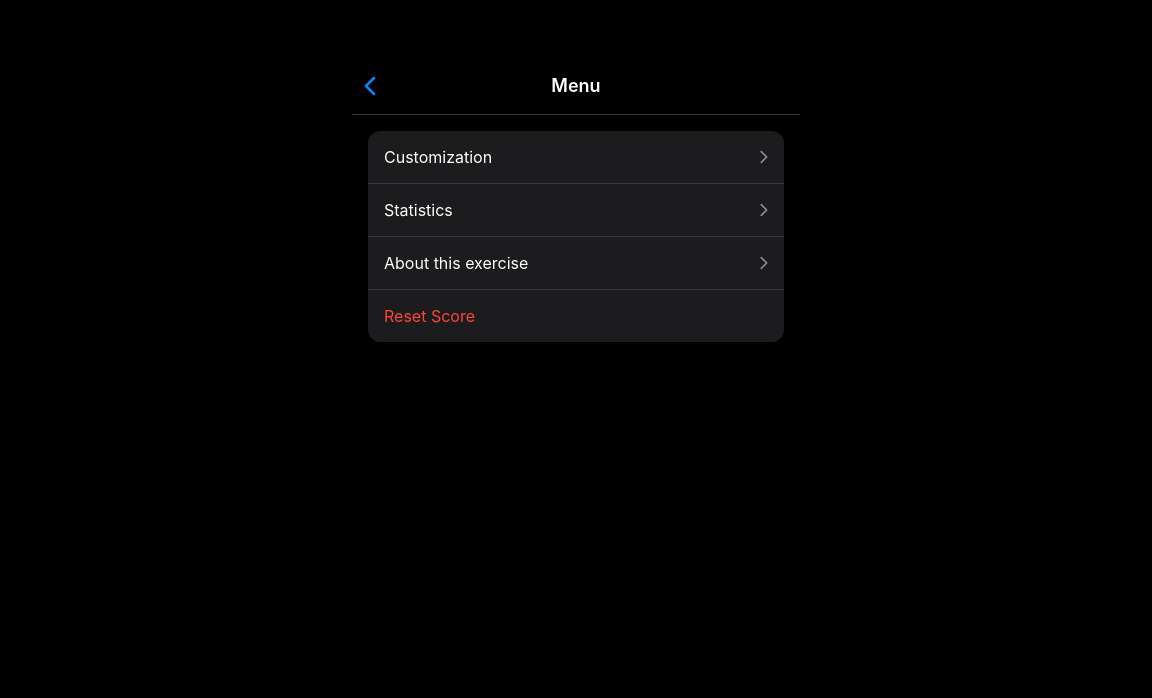
Test: what am I bad at › puts what is going worst in its own section, first
Click the button "Statistics" at x=418, y=210, box [368,183,784,236]
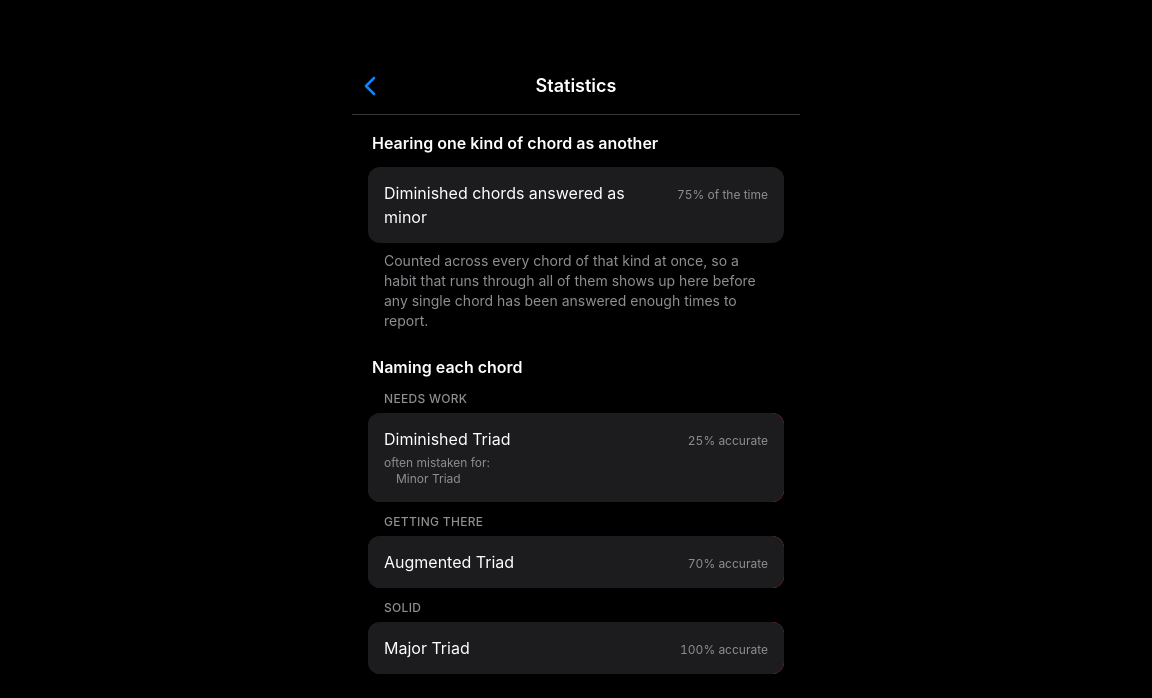
Now the heading "Needs work" is shown, box [384,391,467,407]
Now the text "Diminished Triad" is shown, box [384,427,510,451]
Now the text "Major Triad" is shown, box [384,636,470,660]
